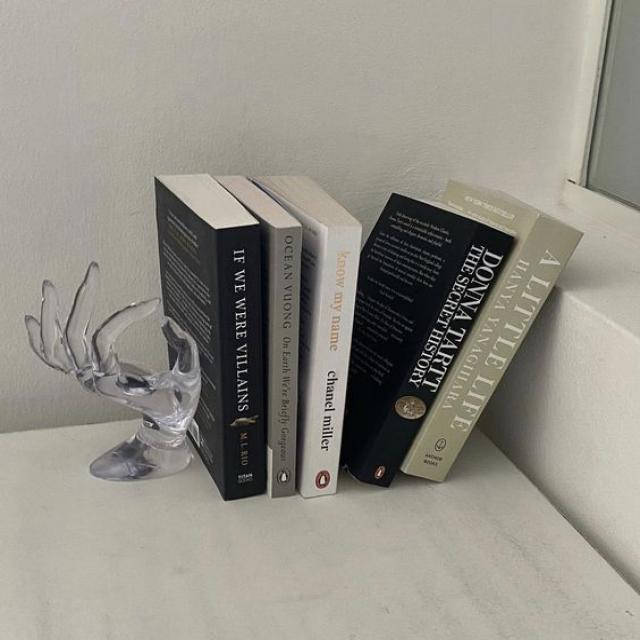book: (403, 216, 580, 481), (361, 225, 518, 491), (303, 228, 359, 499), (218, 224, 266, 500), (268, 228, 301, 496)
